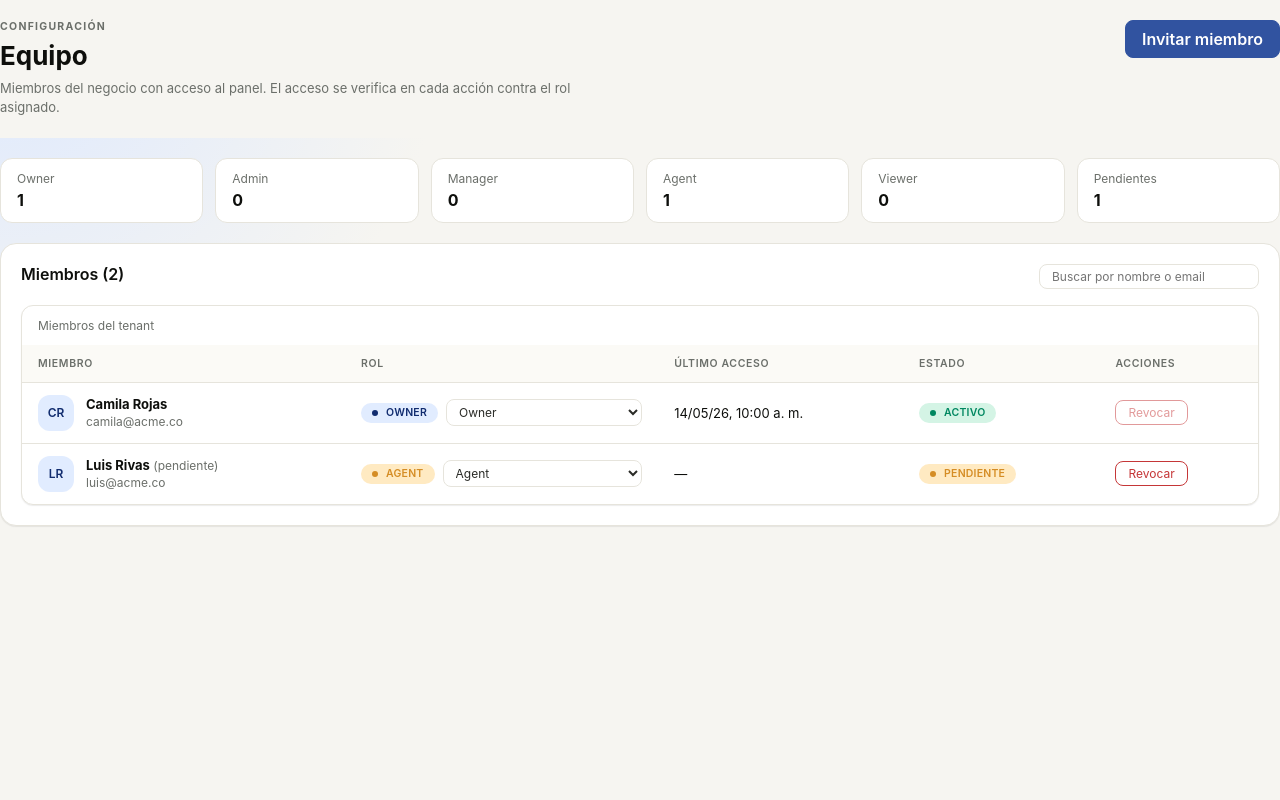
Test: TeamModule › opens the invite drawer from the header CTA
Expected: the text "Camila Rojas" is shown, 86,396 -> 167,412
Step 1. Click the button "Invitar miembro" → (1202, 39), box 1125,20 -> 1279,58
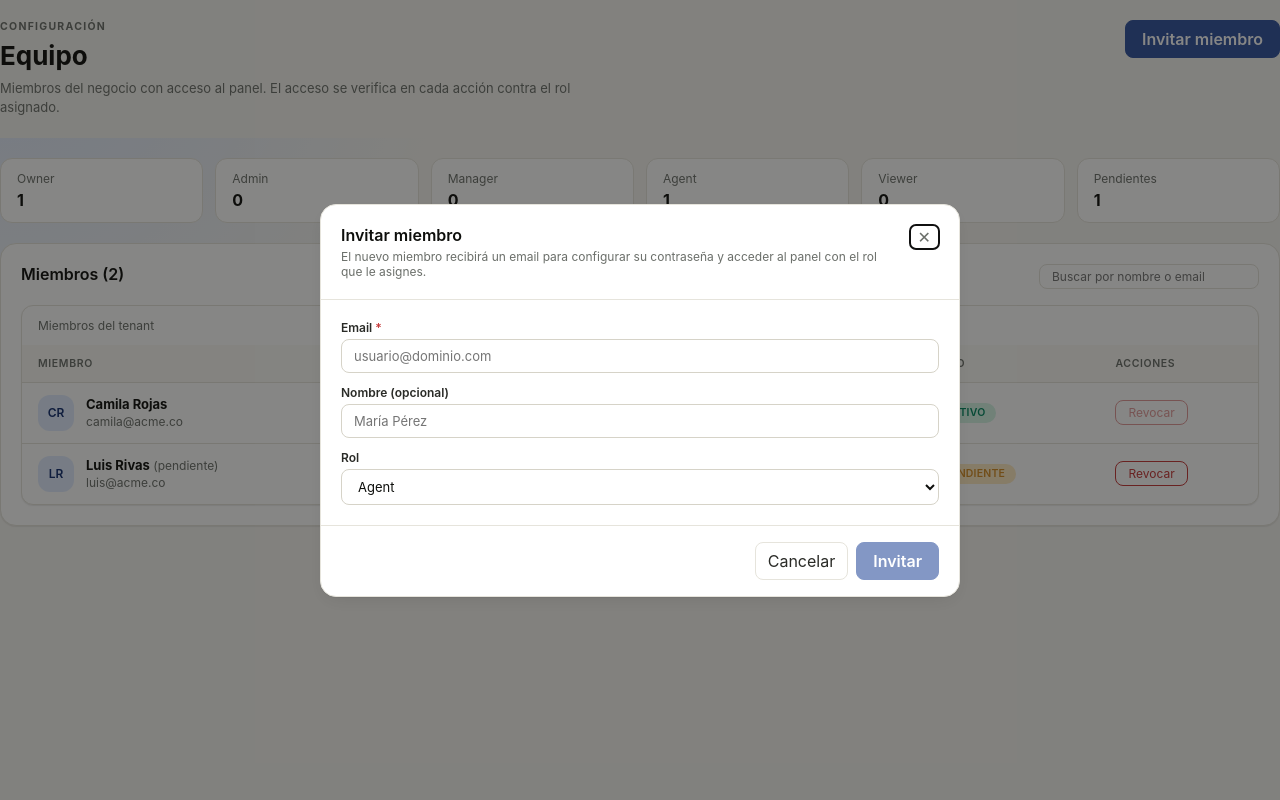
Expected: the dialog shows "Invitar miembro", 341,224 -> 462,244
Expected: the button "Invitar" is shown, 856,542 -> 939,580
